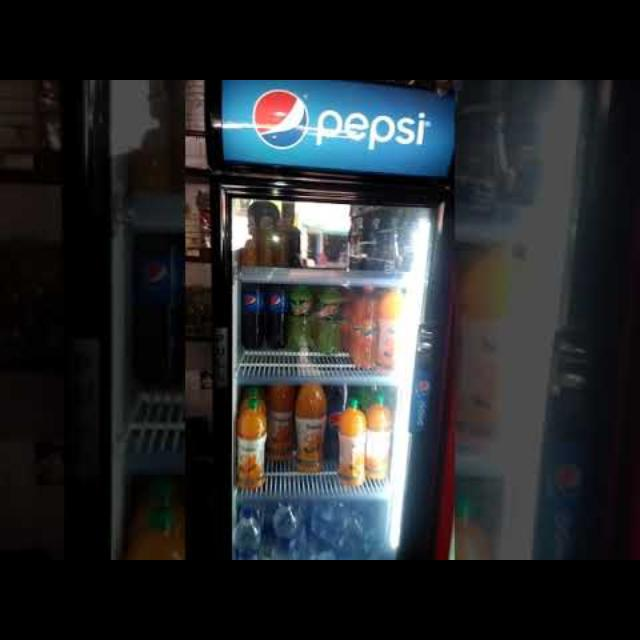Cooling-Display: (205, 82, 453, 560)
